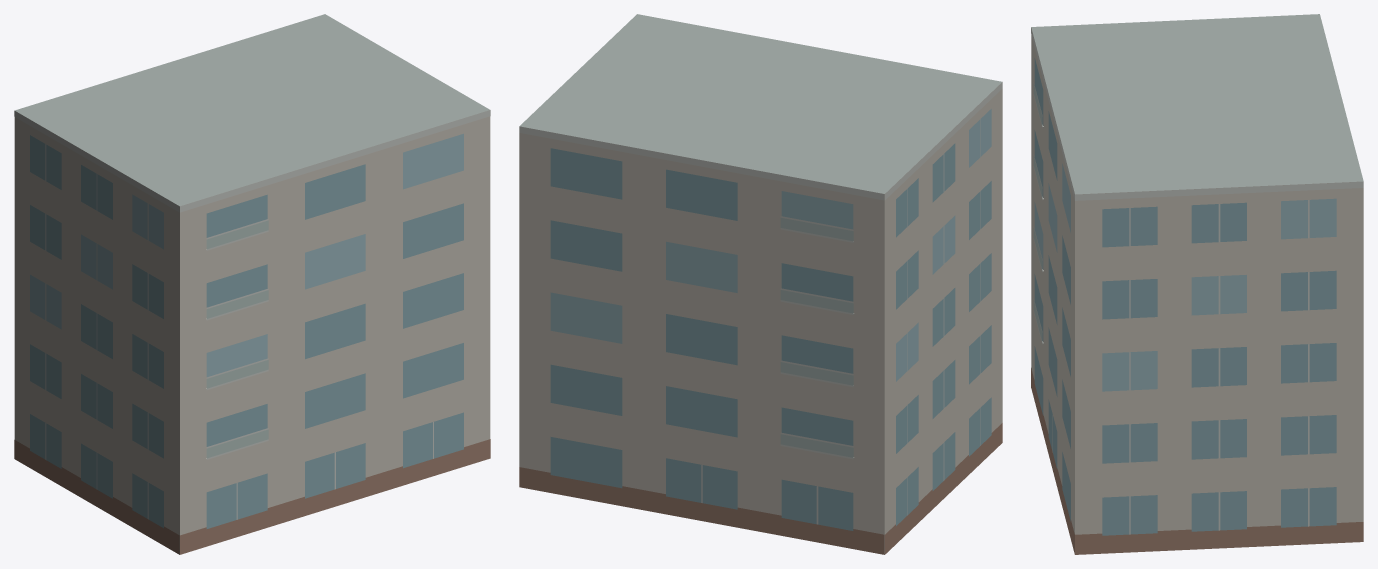
File: survey-upis-32854388.glb
3 views of the same model, side by side, from view 1: azimuth 30°, elevation 25°; view 2: azimuth 150°, elevation 25°; view 3: azimuth 270°, elevation 25° (orthographic). The views are drawn at different scales.
Visible parts, largest first — view 1: survey-upis-32854388.tmp; view 2: survey-upis-32854388.tmp; view 3: survey-upis-32854388.tmp.
Boxes of the visible parts, left/top/right/bottom form: survey-upis-32854388.tmp: left=14, top=14, right=490, bottom=554; survey-upis-32854388.tmp: left=519, top=14, right=1002, bottom=554; survey-upis-32854388.tmp: left=1031, top=14, right=1363, bottom=554.
Bounding box in the file's own units: 14.56 × 13.55 × 11.34.
